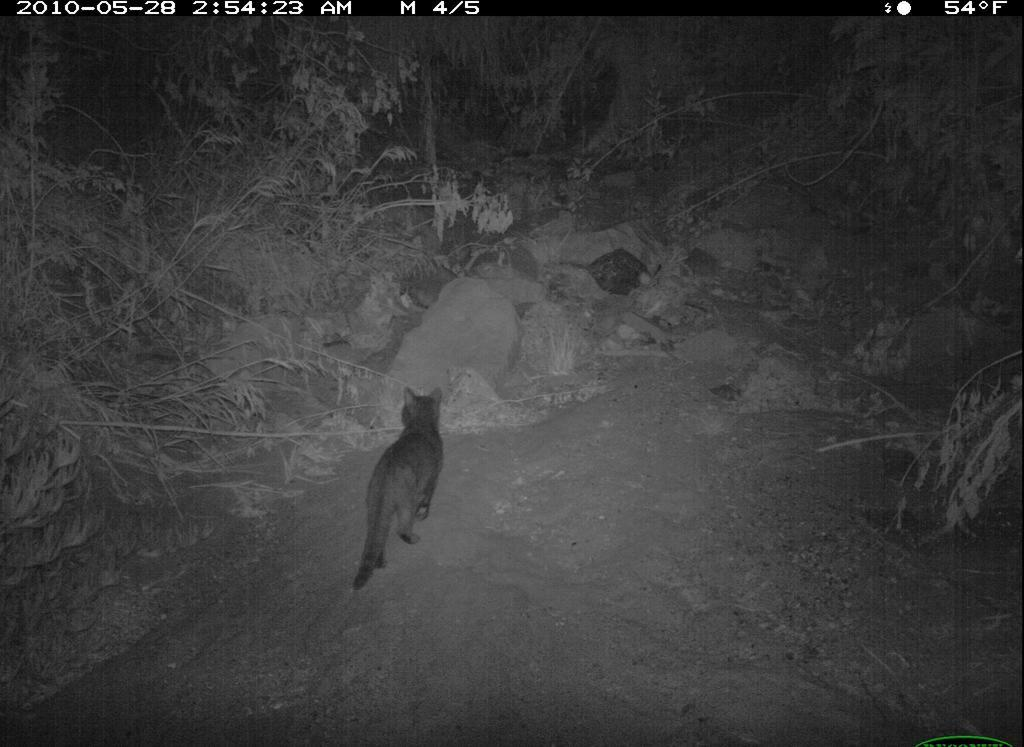cat: (348, 385, 451, 596)
